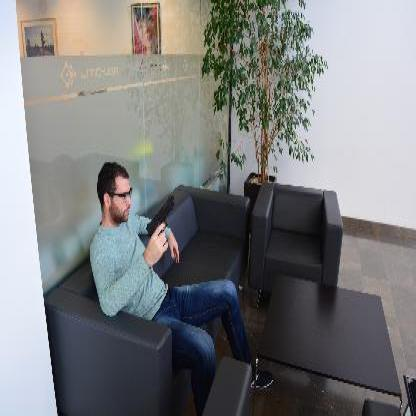pistol: (146, 194, 174, 252)
